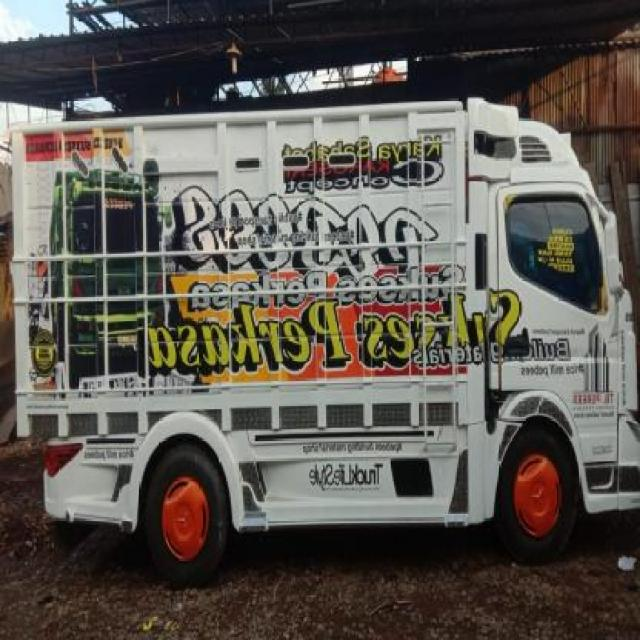truck: (10, 91, 640, 580)
